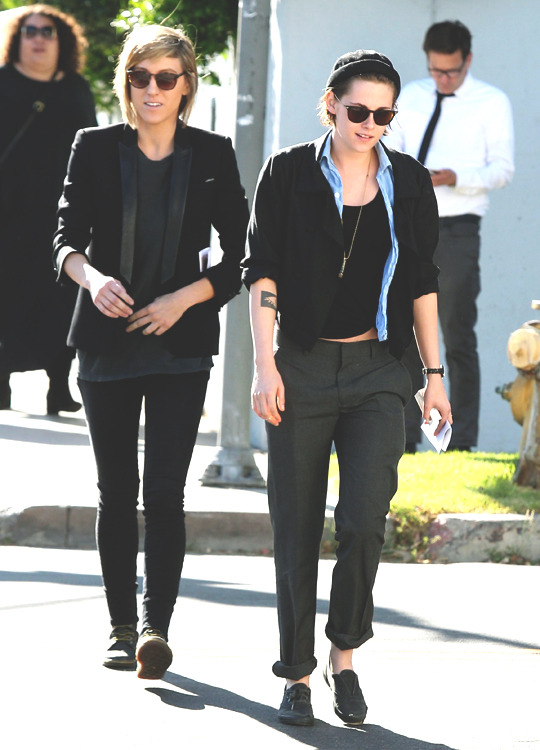sunglasses: (124, 67, 179, 91), (341, 107, 398, 127), (18, 22, 61, 39)
